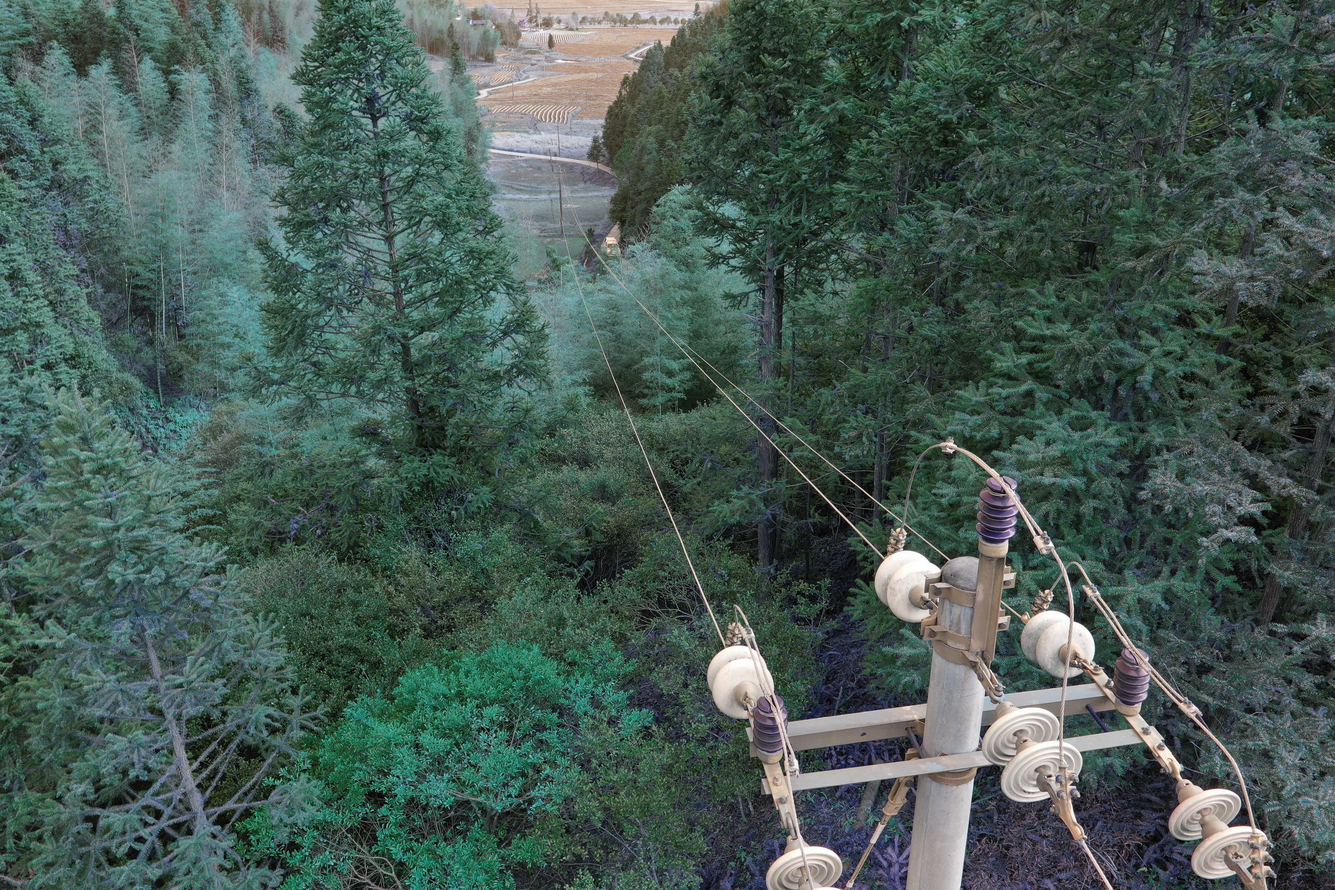severe_soiling_no_discharge_whole: (700, 644, 778, 722), (1019, 610, 1095, 679), (873, 547, 942, 623)
